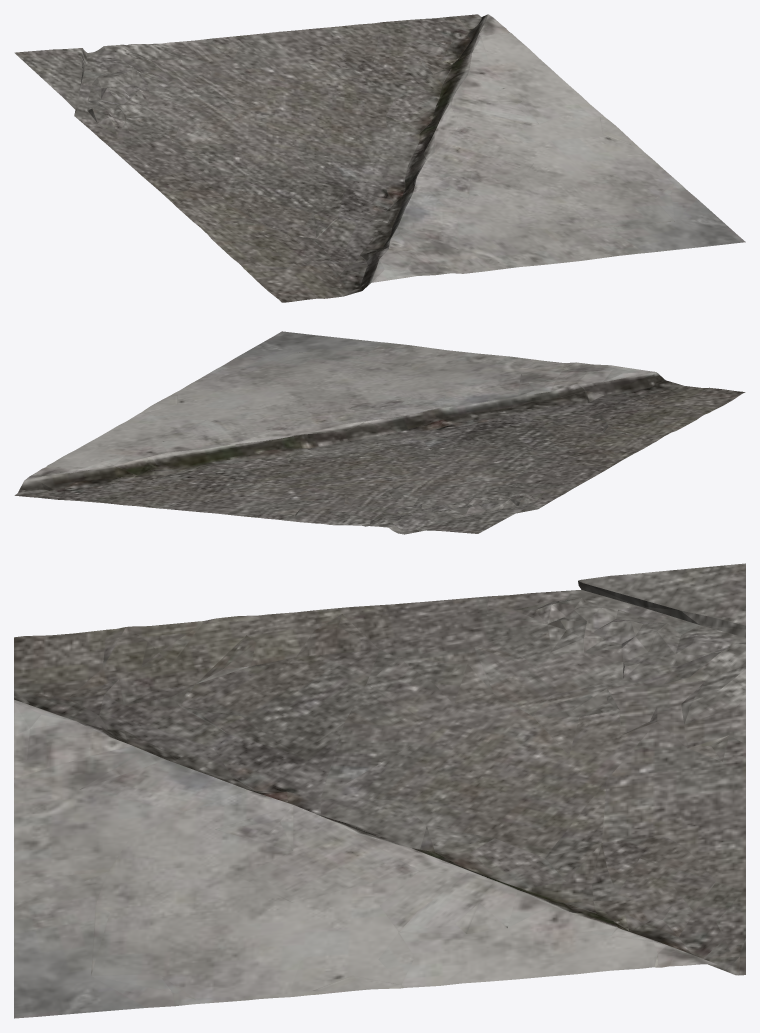
3 views of the same model, one above another, from view 1: azimuth 30°, elevation 25°; view 2: azimuth 150°, elevation 25°; view 3: azimuth 270°, elevation 25° (orthographic). The views are drawn at different scales.
Size of the model in its own units: 1.67 by 0.3679 by 1.67.
3 materials, 3 textured.
